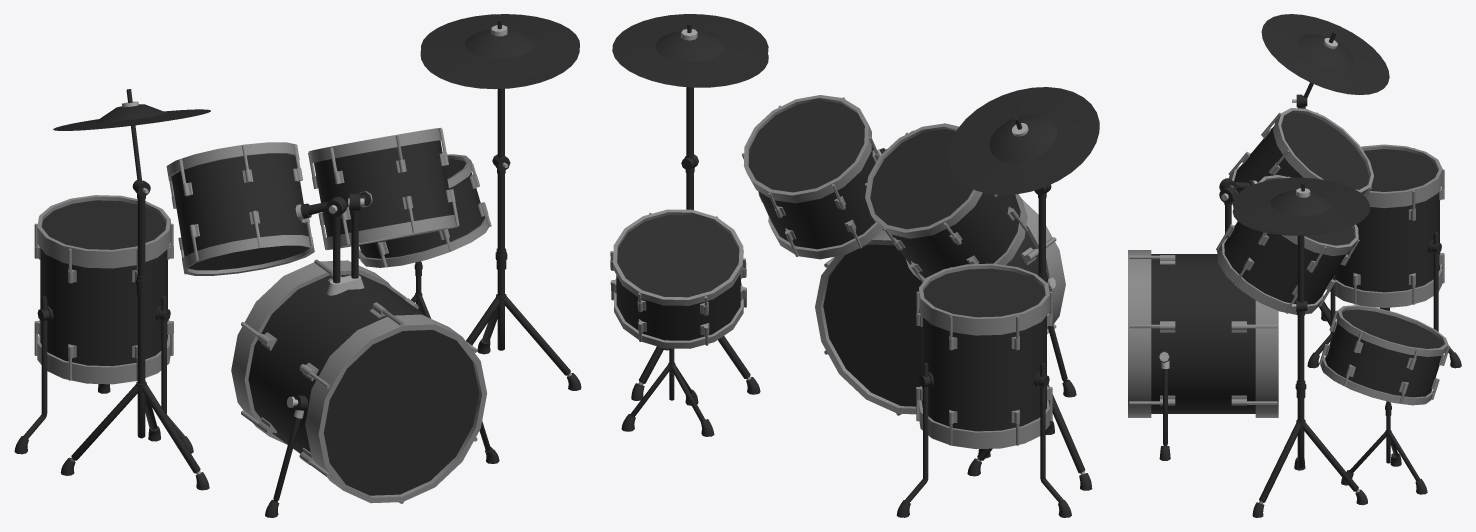
File: DrumSet_01.fbx
3 renders of one model, left to right at view 1: azimuth 30°, elevation 25°; view 2: azimuth 150°, elevation 25°; view 3: azimuth 270°, elevation 25°, orthographic. The views are drawn at different scales.
Visible parts, largest first — view 1: DrumSet_01; view 2: DrumSet_01; view 3: DrumSet_01.
Part boxes in pixels (x1,y1,x2,y2): DrumSet_01: [14, 14, 581, 517]; DrumSet_01: [610, 14, 1099, 517]; DrumSet_01: [1128, 14, 1461, 517].
Size of the model in its own units: 1.96 by 1.36 by 1.3.
